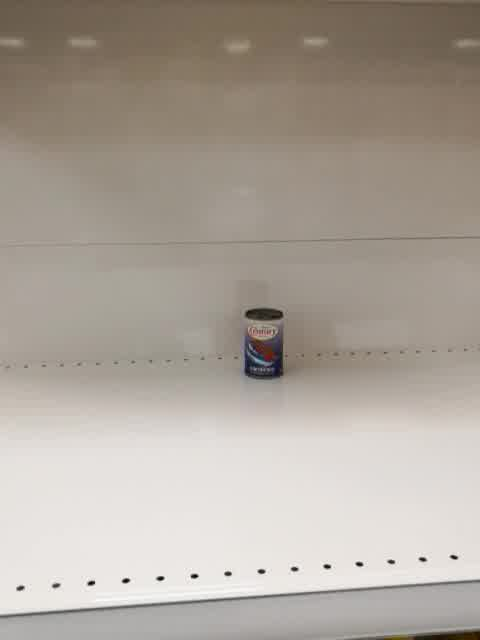sardine: (244, 307, 286, 381)
